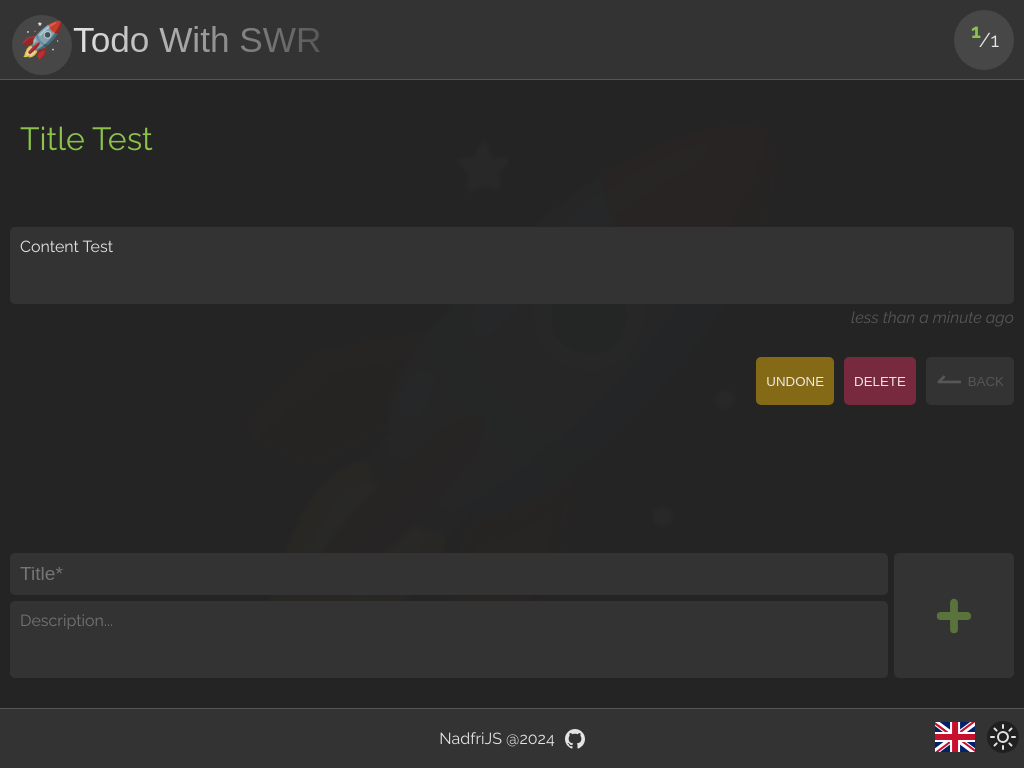
Test case: TodoPage usecases › should delete the todo and redirect to Home
Click the button "DELETE": {"x": 880, "y": 381} [844, 357, 916, 405]
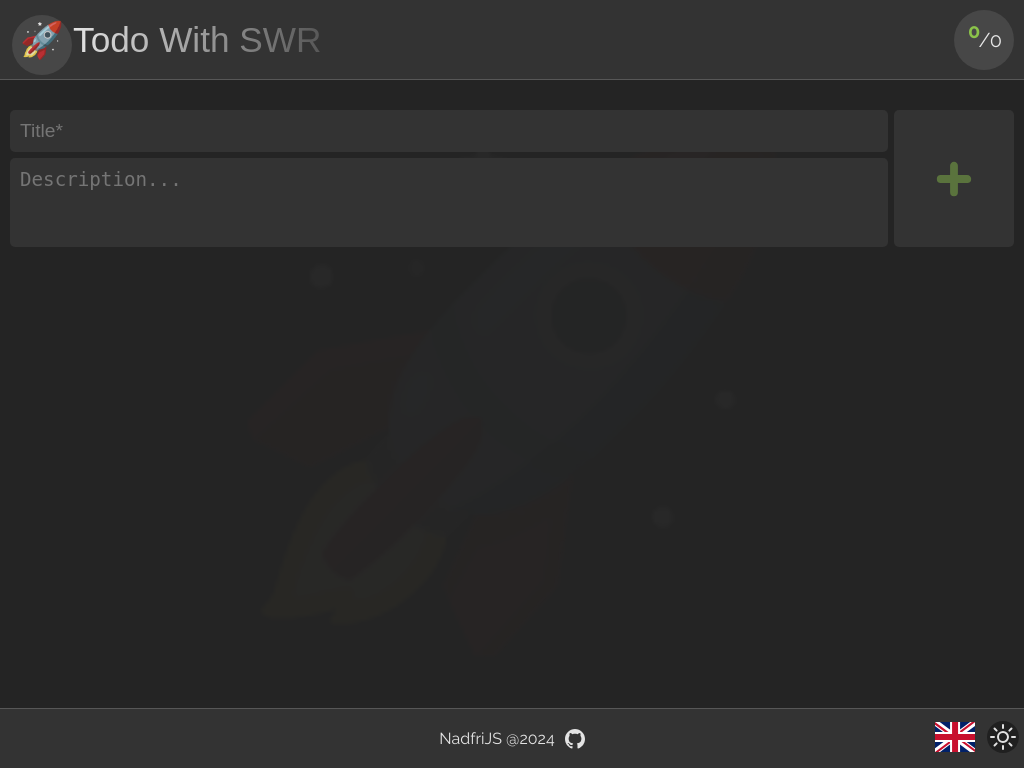
Expected: the button "DELETE" is gone
